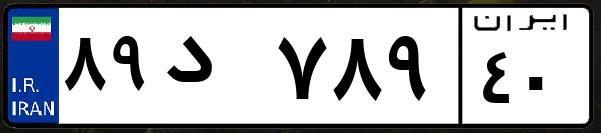0: (525, 38, 570, 115)
4: (475, 38, 525, 113)
7: (270, 28, 330, 110)
8: (330, 28, 385, 110), (57, 26, 110, 100)
9: (385, 28, 445, 110), (110, 28, 158, 98)
د: (158, 20, 270, 120)
